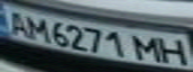1: (103, 28, 130, 58)
2: (63, 22, 87, 52)
6: (45, 19, 72, 48)
7: (81, 25, 106, 55)
A: (3, 8, 33, 37)
H: (154, 35, 193, 65)
M: (130, 33, 166, 63), (21, 14, 51, 43)
